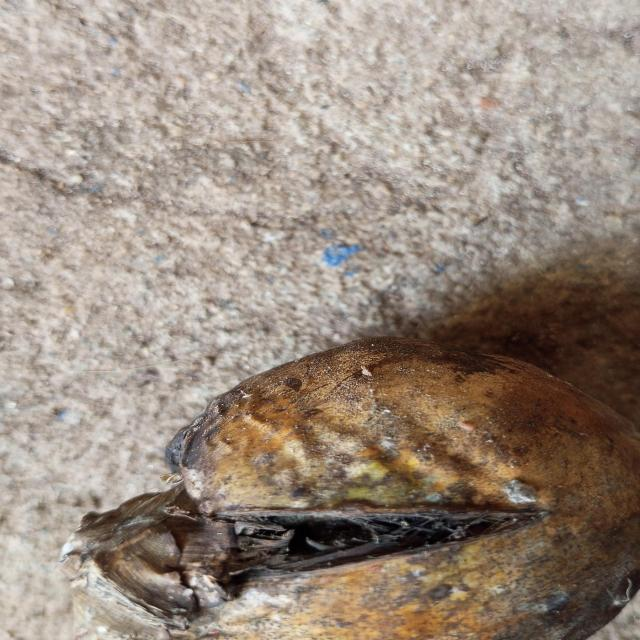damaged: (62, 338, 639, 640)
